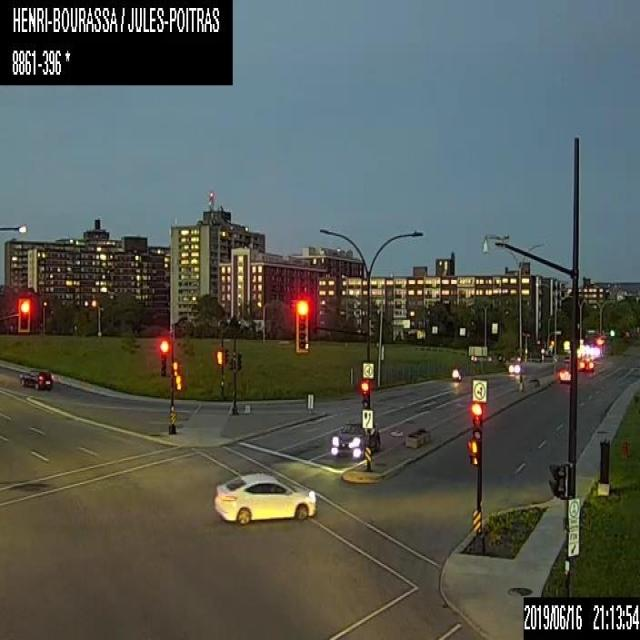vehicle: (212, 470, 317, 526), (329, 419, 379, 458), (19, 368, 53, 388), (448, 366, 466, 382), (578, 354, 594, 370), (559, 362, 570, 382), (508, 361, 523, 374)
